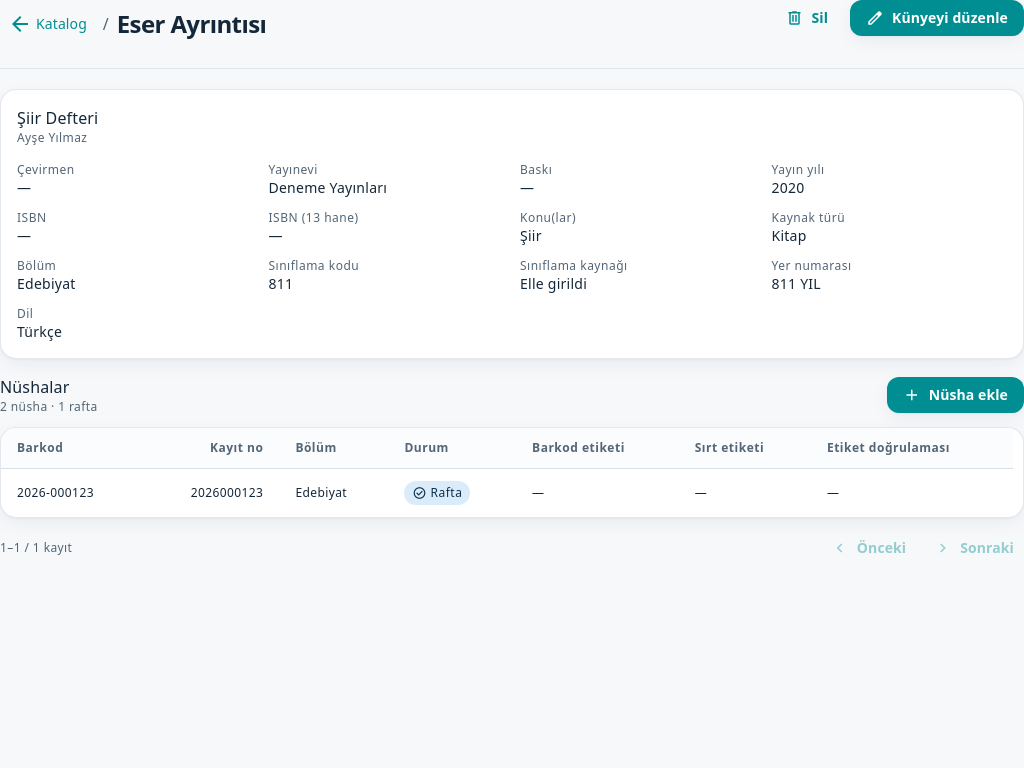
Scenario: Eser Ayrıntısı — kayıp, hasar ve onarım › kayıp bildirimi nüsha penceresini kapatıp kayıp penceresini açar
Expected: the text "2026-000123" is shown, [1,468,143,517]
What coordinates should you click on to do the following:
click the button with aria-label "2026-000123 numaralı nüshayı düzenle"
I would click on:
 (55, 492)
Its box is [1,468,1013,517].
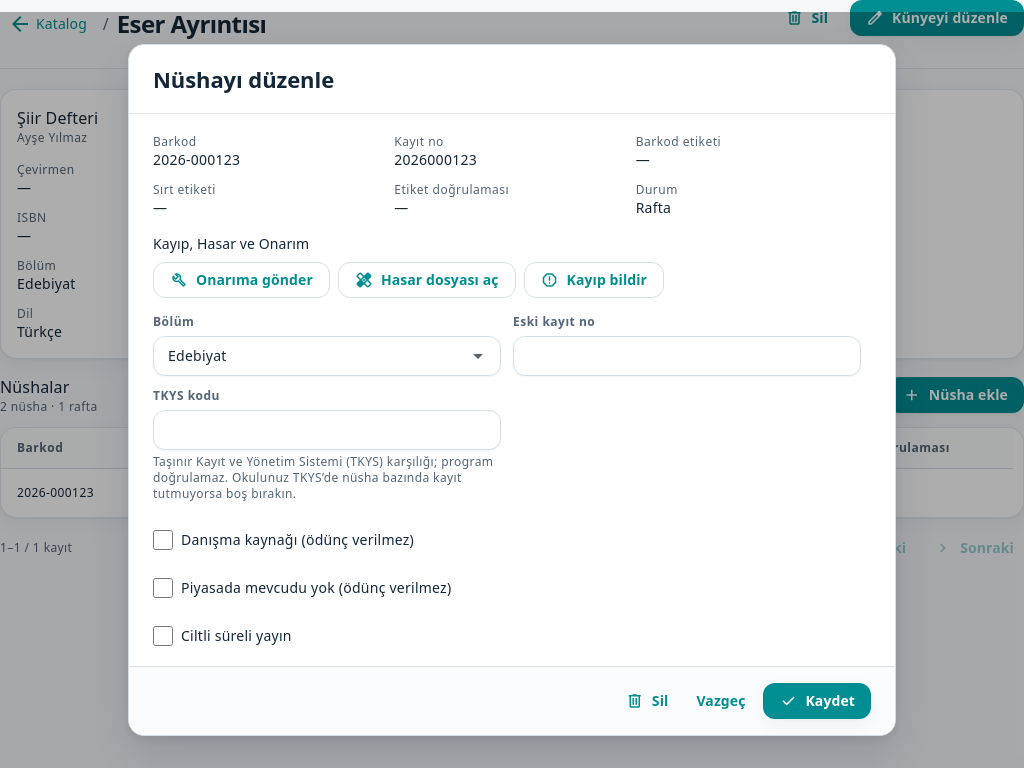
What coordinates should you click on to do the following:
click the button "Kayıp bildir"
I would click on:
 (594, 280)
Its box is [524,262,664,298].
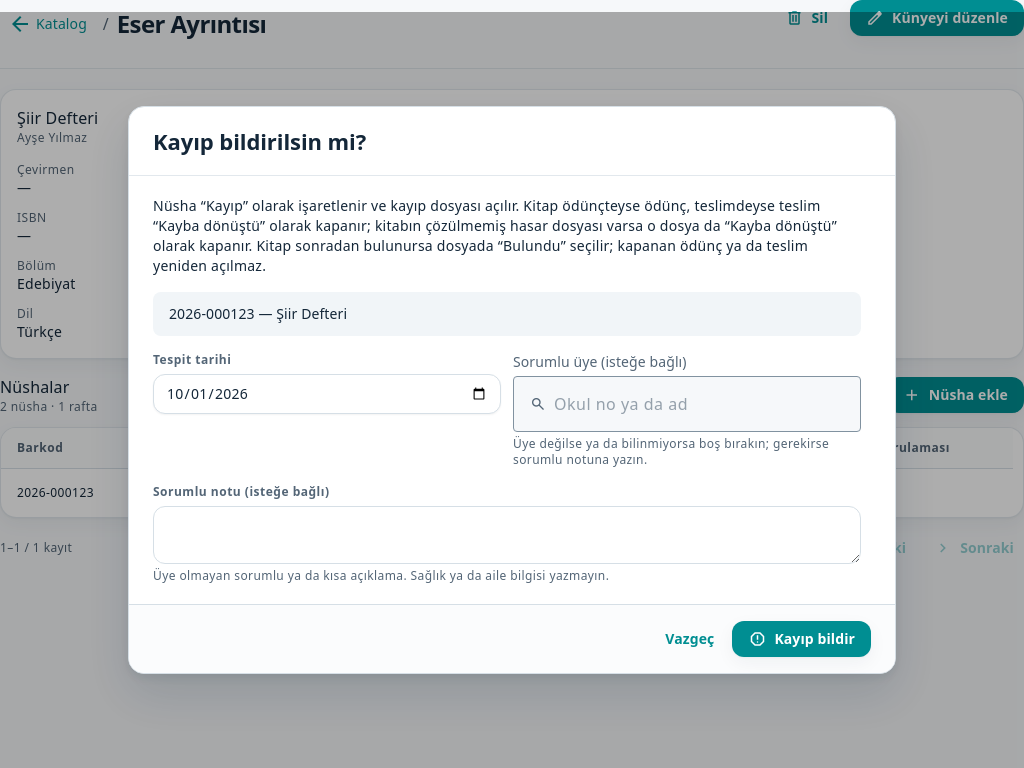
Result: the heading "Nüshayı düzenle" is gone
What coordinates should you click on to do the following:
click the button "Kayıp bildir"
I would click on:
 (802, 639)
Its box is [732,621,871,657].
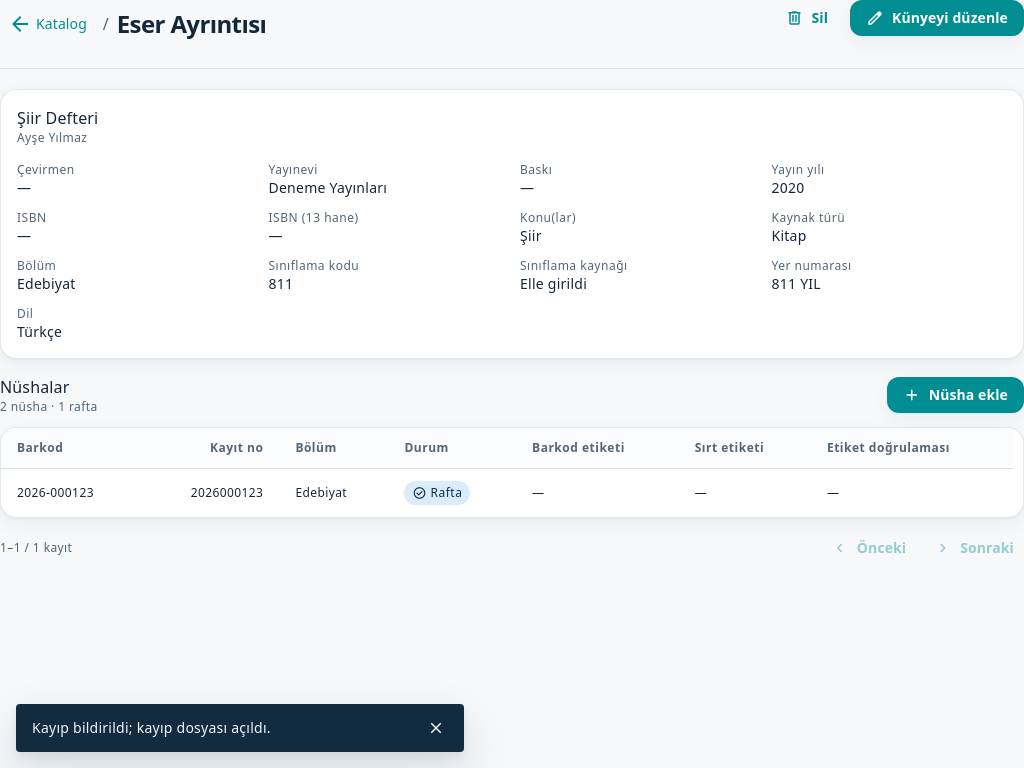
Result: the text "Kayıp bildirildi; kayıp dosyası açıldı." is shown at [32,718,271,737]
